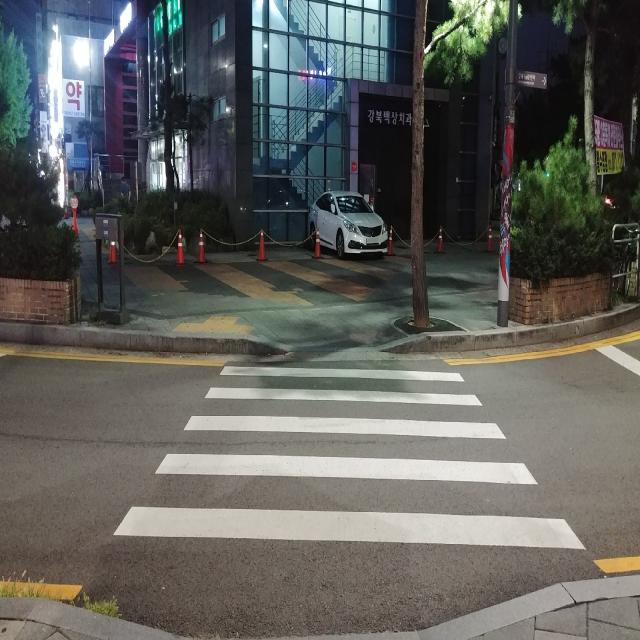횡단보도: (112, 364, 587, 550)
